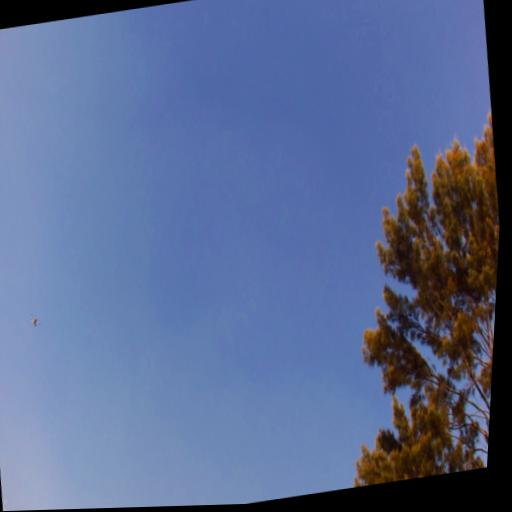drones: (27, 309, 44, 333)
